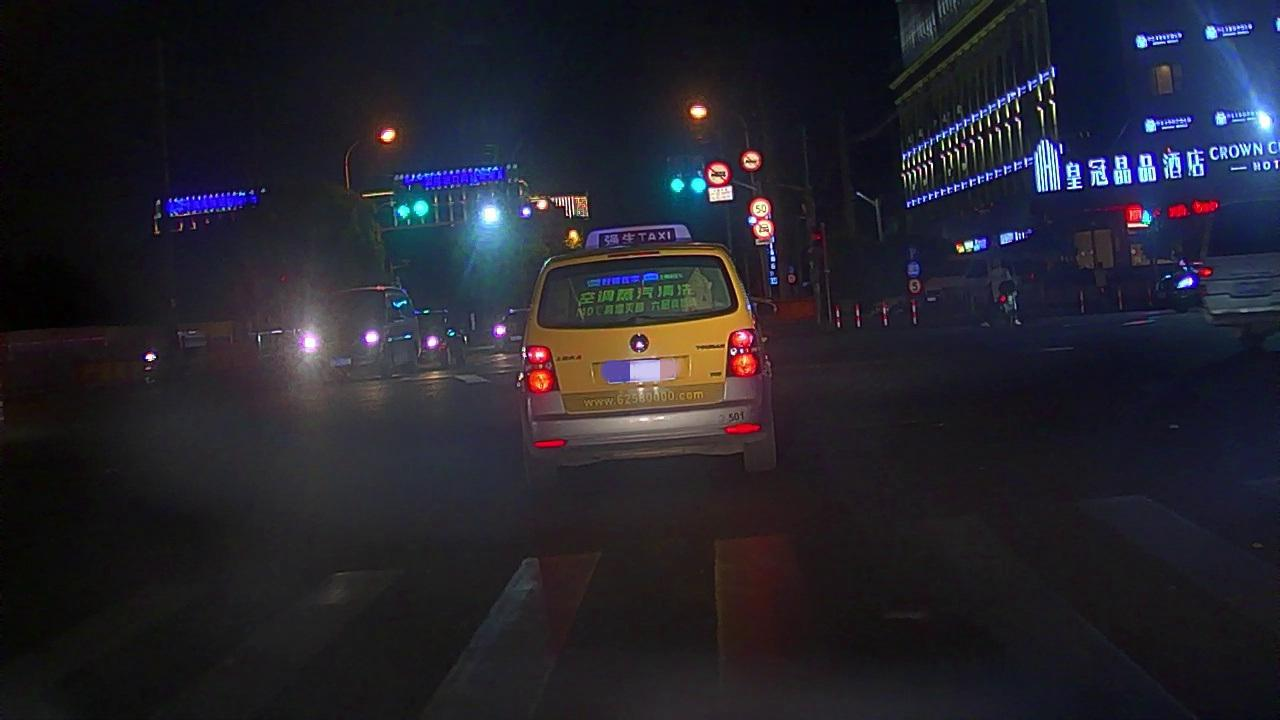traffic_light: (409, 196, 430, 220), (687, 174, 709, 195), (666, 175, 686, 194), (392, 201, 411, 220)
